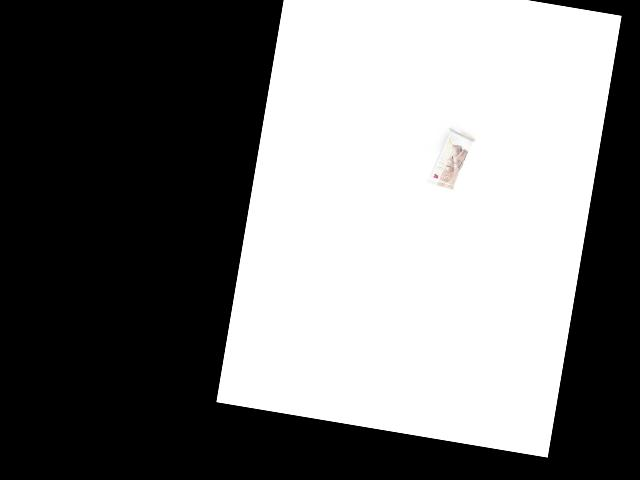chocolate: (424, 128, 480, 193)
